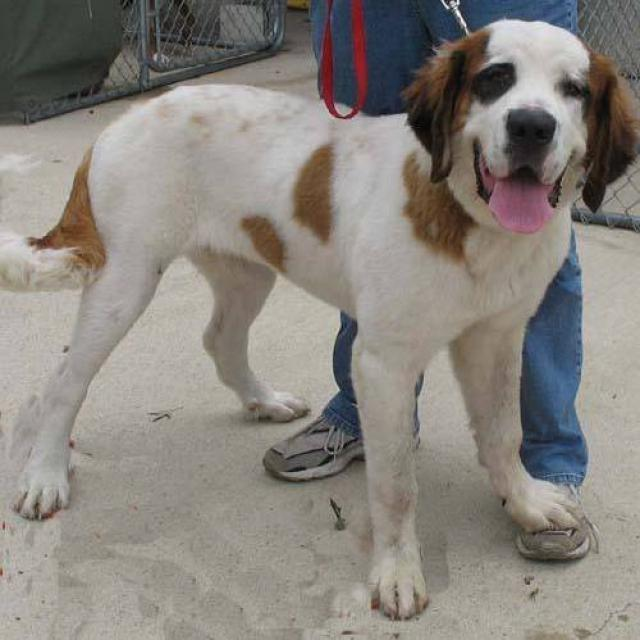Dog: (412, 15, 640, 244)
